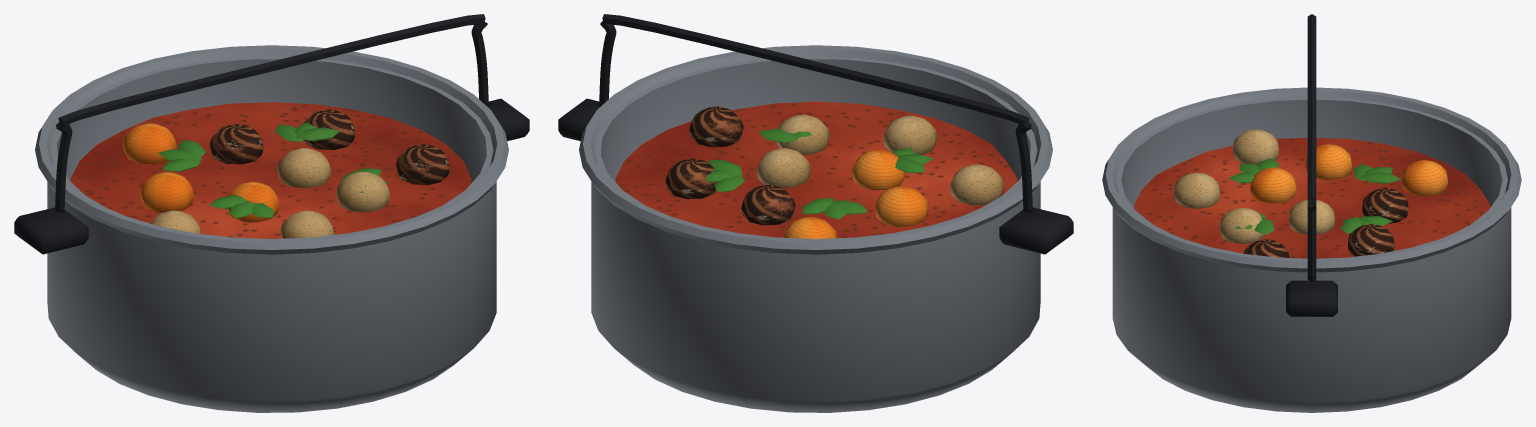
Rendered from meal_beef_stew_pot.glb.
3 views of the same model, side by side, from view 1: azimuth 30°, elevation 25°; view 2: azimuth 150°, elevation 25°; view 3: azimuth 270°, elevation 25° (orthographic). The views are drawn at different scales.
Visible parts, largest first — view 1: meal_beef_stew_pot; view 2: meal_beef_stew_pot; view 3: meal_beef_stew_pot.
Part boxes in pixels (x1=…): meal_beef_stew_pot: x1=14, y1=14, x2=529, y2=412; meal_beef_stew_pot: x1=558, y1=14, x2=1073, y2=412; meal_beef_stew_pot: x1=1102, y1=14, x2=1521, y2=412.
Bounding box in the file's own units: 0.29 × 0.1499 × 0.242.
7 materials, 4 textured.
